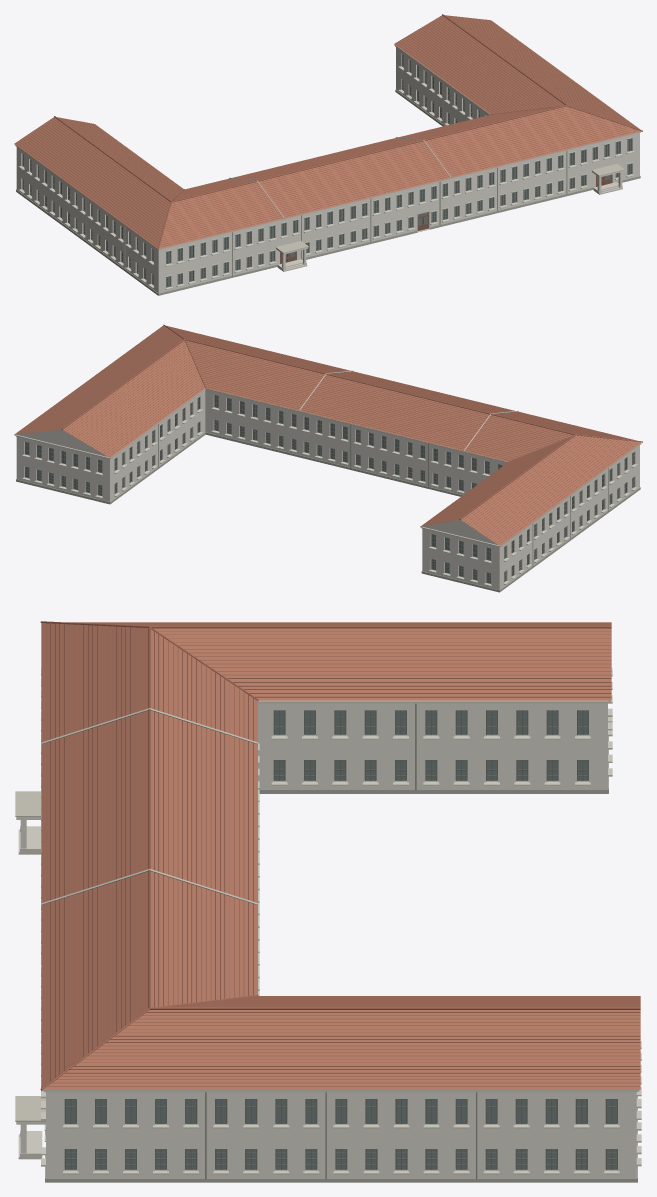
Rendered from huangpu-jiangnan-historic-general-office-raw.glb.
3 renders of one model, top to bottom at view 1: azimuth 30°, elevation 25°; view 2: azimuth 150°, elevation 25°; view 3: azimuth 270°, elevation 25°, orthographic. The views are drawn at different scales.
Visible parts, largest first — view 1: 江南制造局旧址总办公楼（西公务厅）; view 2: 江南制造局旧址总办公楼（西公务厅）; view 3: 江南制造局旧址总办公楼（西公务厅）.
Boxes of the visible parts, bbox=[...] form: 江南制造局旧址总办公楼（西公务厅）: bbox=[14, 14, 642, 295]; 江南制造局旧址总办公楼（西公务厅）: bbox=[14, 324, 642, 592]; 江南制造局旧址总办公楼（西公务厅）: bbox=[15, 621, 641, 1182].
Bounding box in the file's own units: 90.33 × 11.68 × 51.03.
